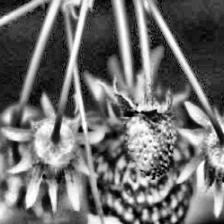Gray Mold: (95, 77, 178, 126)
